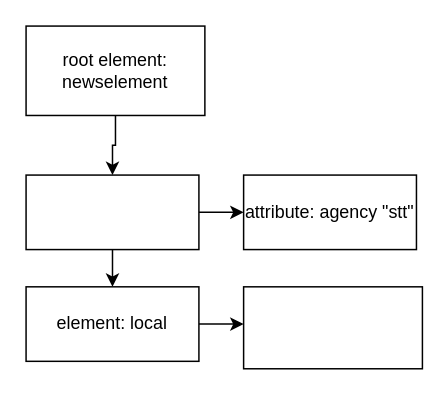
Image size: 448x395. Some labels were removed from this diagram. The centre of each missing label's shape, as x and y in pixels:
element: editor "miller": the point at 332,327
element: tempesta di neve in Lapponia: the point at 112,212
